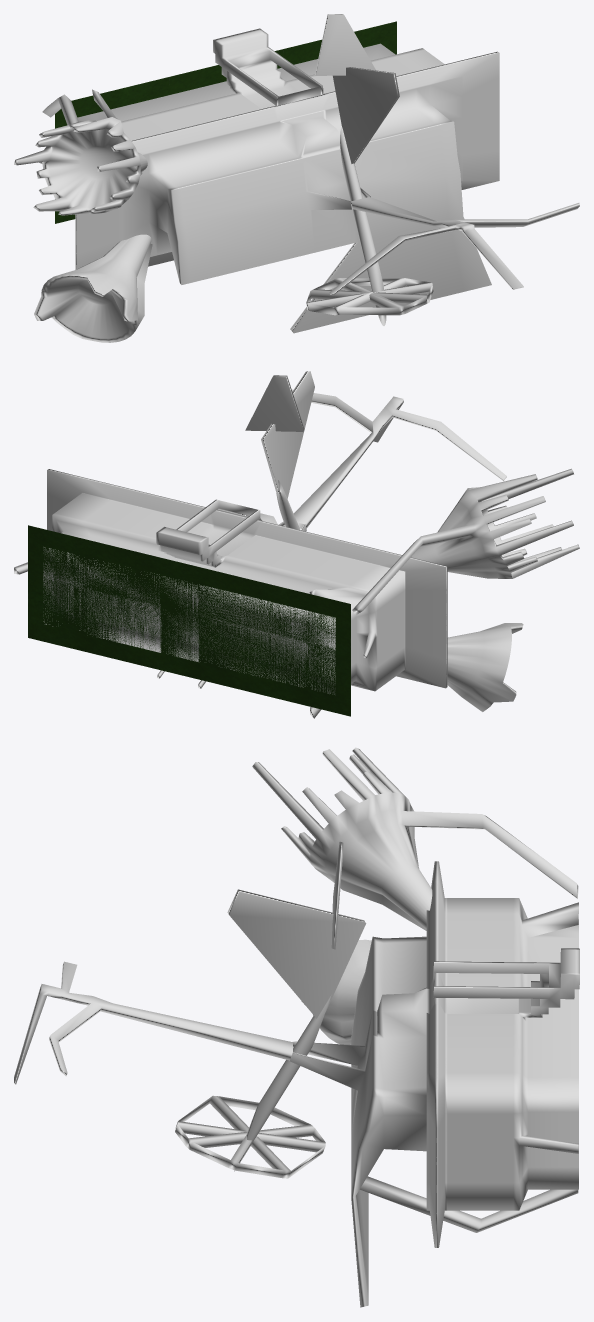
Rendered from haus1_dim30x10.fbx.
The picture shows the model from 3 angles, top to bottom: view 1: azimuth 30°, elevation 25°; view 2: azimuth 150°, elevation 25°; view 3: azimuth 270°, elevation 25°; orthographic projection. The views are drawn at different scales.
Visible parts, largest first — view 1: Wohnhaus, Grasplane_3, Grasplane_2, Grasplane_1; view 2: Wohnhaus, Grasplane_3, Grasplane_2, Grasplane_1; view 3: Wohnhaus.
Part boxes in pixels (x1,y1,x2,y2): Wohnhaus: [14, 14, 579, 342]; Grasplane_3: [55, 77, 168, 223]; Grasplane_2: [283, 21, 396, 64]; Grasplane_1: [169, 49, 282, 94]; Wohnhaus: [14, 371, 579, 718]; Grasplane_3: [243, 578, 350, 716]; Grasplane_2: [28, 525, 135, 663]; Grasplane_1: [135, 551, 243, 690]; Wohnhaus: [14, 747, 579, 1307].
Size of the model in its own units: 45.72 by 26.76 by 37.19.
Materials: 1 (1 with a texture image).
